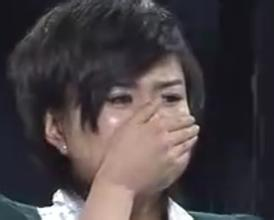face: (78, 49, 192, 193)
